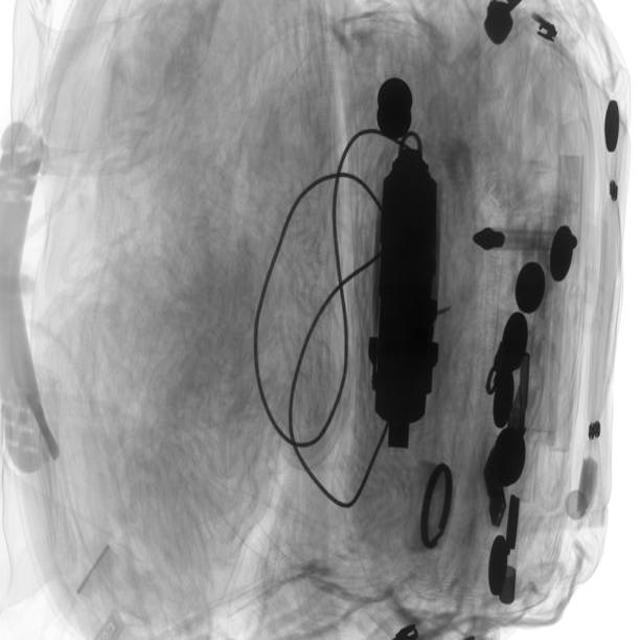gun: (377, 129, 442, 456)
